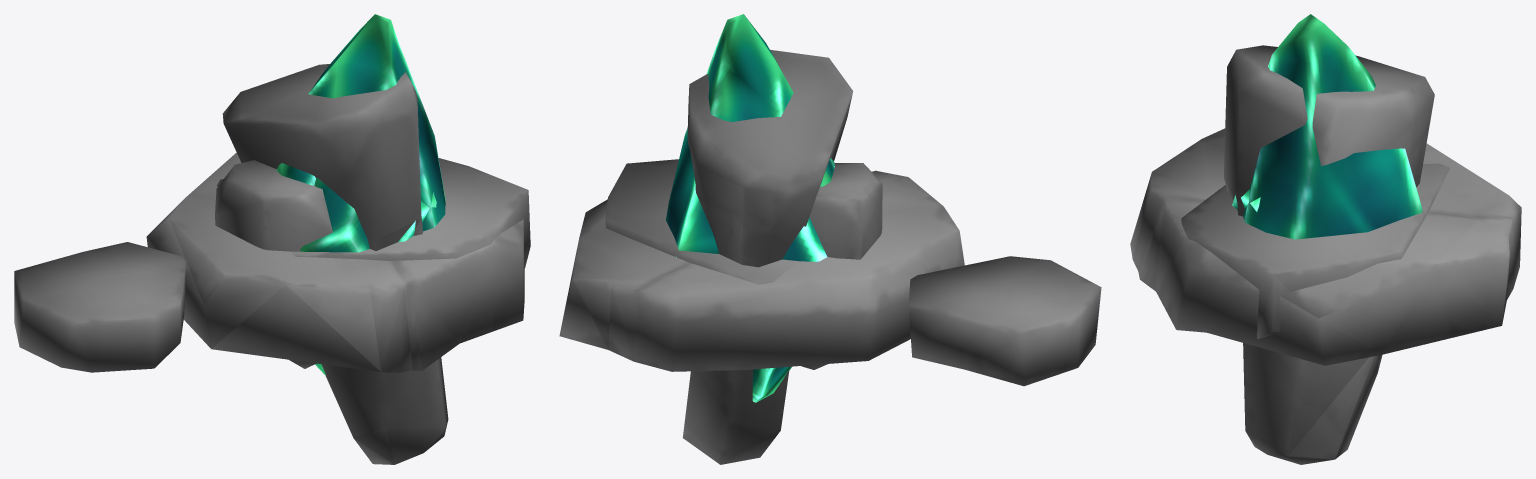
File: EN_FloatingRocks_GLTF.gltf
3 views of the same model, side by side, from view 1: azimuth 30°, elevation 25°; view 2: azimuth 150°, elevation 25°; view 3: azimuth 270°, elevation 25° (orthographic).
Parts seen in each view (by area): view 1: EN_FloatingRock_10, EN_FloatingRock_06, EN_FloatingRock_09, EN_FloatingRock_04, EN_FloatingRock_11, EN_FloatingRock_05, EN_FloatingRock_04_WIND, EN_FloatingRock_02; view 2: EN_FloatingRock_10, EN_FloatingRock_06, EN_FloatingRock_09, EN_FloatingRock_04, EN_FloatingRock_11, EN_FloatingRock_05, EN_FloatingRock_04_WIND, EN_FloatingRock_01; view 3: EN_FloatingRock_10, EN_FloatingRock_06, EN_FloatingRock_04, EN_FloatingRock_11.
Part boxes in pixels (box(x1,y1,x2,y2)): EN_FloatingRock_10: box(146, 152, 524, 372); EN_FloatingRock_06: box(222, 64, 448, 464); EN_FloatingRock_09: box(14, 242, 186, 372); EN_FloatingRock_04: box(300, 14, 445, 252); EN_FloatingRock_11: box(216, 158, 530, 268); EN_FloatingRock_05: box(215, 160, 332, 368); EN_FloatingRock_04_WIND: box(347, 155, 434, 252); EN_FloatingRock_02: box(276, 163, 436, 242); EN_FloatingRock_10: box(559, 170, 964, 371); EN_FloatingRock_06: box(682, 49, 853, 464); EN_FloatingRock_09: box(908, 256, 1101, 386); EN_FloatingRock_04: box(666, 14, 834, 261); EN_FloatingRock_11: box(605, 159, 798, 284); EN_FloatingRock_05: box(801, 163, 882, 369); EN_FloatingRock_04_WIND: box(782, 227, 817, 261); EN_FloatingRock_01: box(752, 366, 791, 402); EN_FloatingRock_10: box(1130, 128, 1521, 365); EN_FloatingRock_06: box(1224, 45, 1434, 464); EN_FloatingRock_04: box(1245, 14, 1424, 239); EN_FloatingRock_11: box(1181, 163, 1449, 338).
Size of the model in its own units: 2.21 by 1.88 by 1.5.
Materials: 2 (2 with a texture image).
